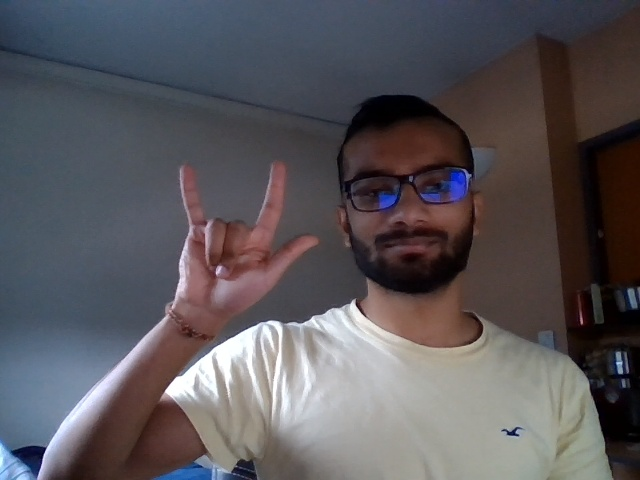I Love You: (151, 146, 326, 322)
